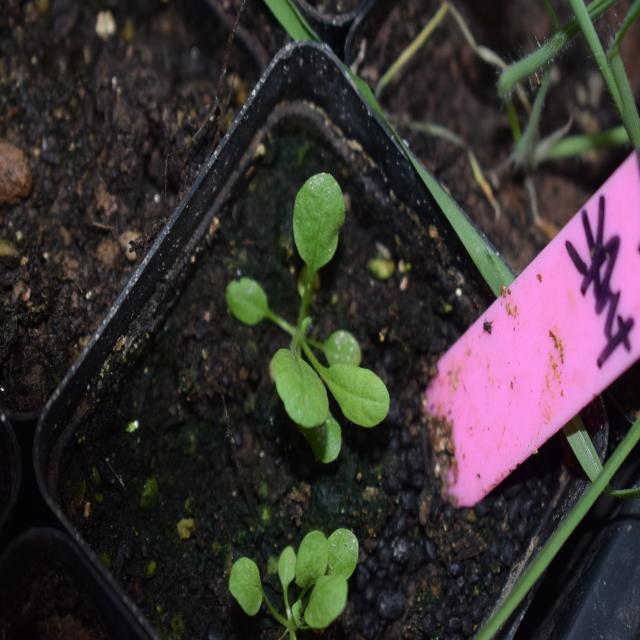Shepherd_Purse: (232, 152, 388, 460), (224, 516, 370, 623)
